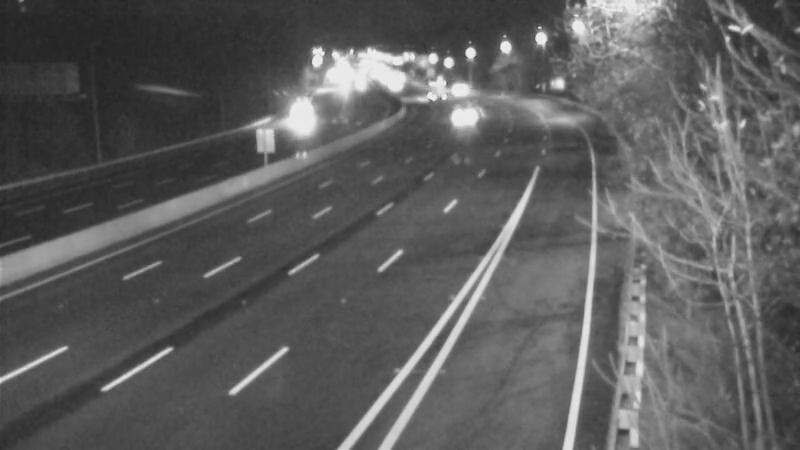vehicle: (409, 67, 459, 117), (435, 62, 485, 112), (435, 80, 485, 130), (271, 93, 321, 143)
